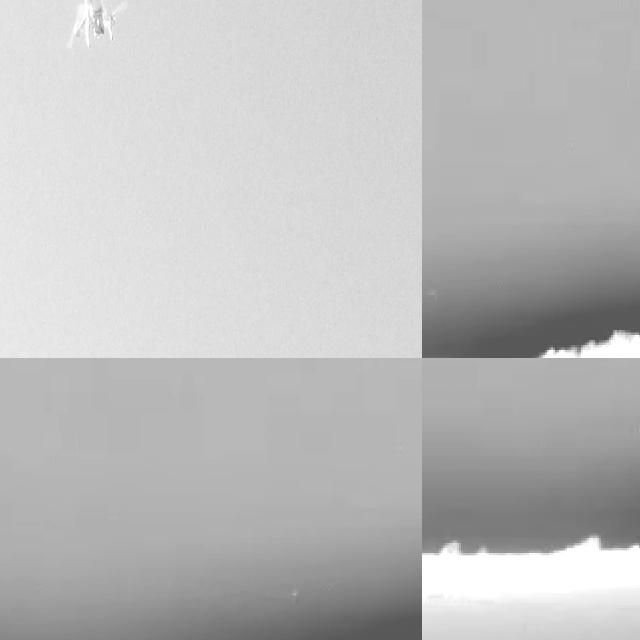0: (277, 581, 307, 613), (422, 277, 446, 310)
drone: (57, 0, 128, 60)
